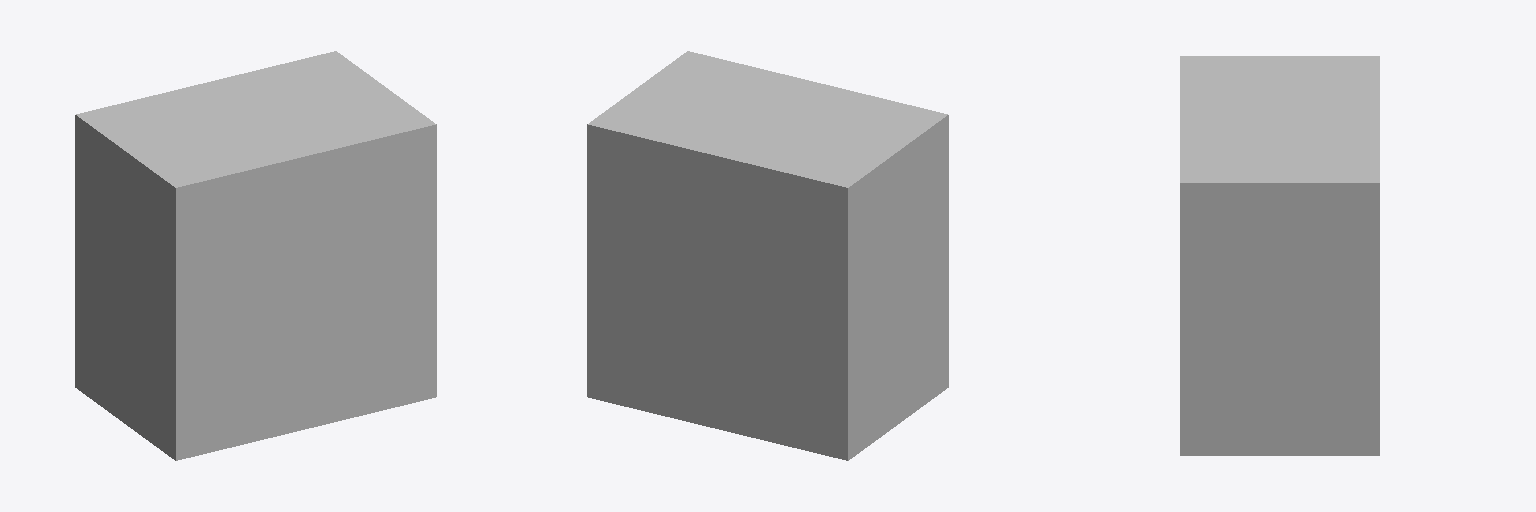
File: Cardboard_Dark_Brown_Close-26.obj
The picture shows the model from 3 angles: view 1: azimuth 30°, elevation 25°; view 2: azimuth 150°, elevation 25°; view 3: azimuth 270°, elevation 25°; orthographic projection.
Visible parts, largest first — view 1: Cardboard_Dark_Brown_Close-26; view 2: Cardboard_Dark_Brown_Close-26; view 3: Cardboard_Dark_Brown_Close-26.
Boxes of the visible parts, x1,y1,x2,y2 form: Cardboard_Dark_Brown_Close-26: [75, 51, 436, 460]; Cardboard_Dark_Brown_Close-26: [587, 51, 948, 460]; Cardboard_Dark_Brown_Close-26: [1180, 56, 1379, 455].
Bounding box in the file's own units: 0.24 × 0.24 × 0.16.